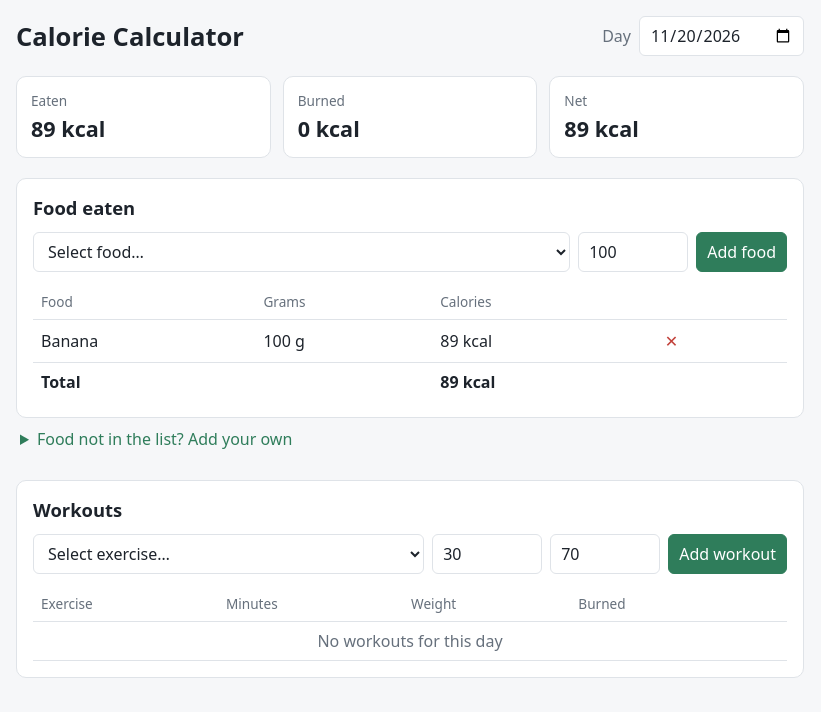
Scenario: App › adding a workout shows burned calories and net
Select "Running" in the dropdown named "Exercise" at (229, 554), box [33,534,424,574]
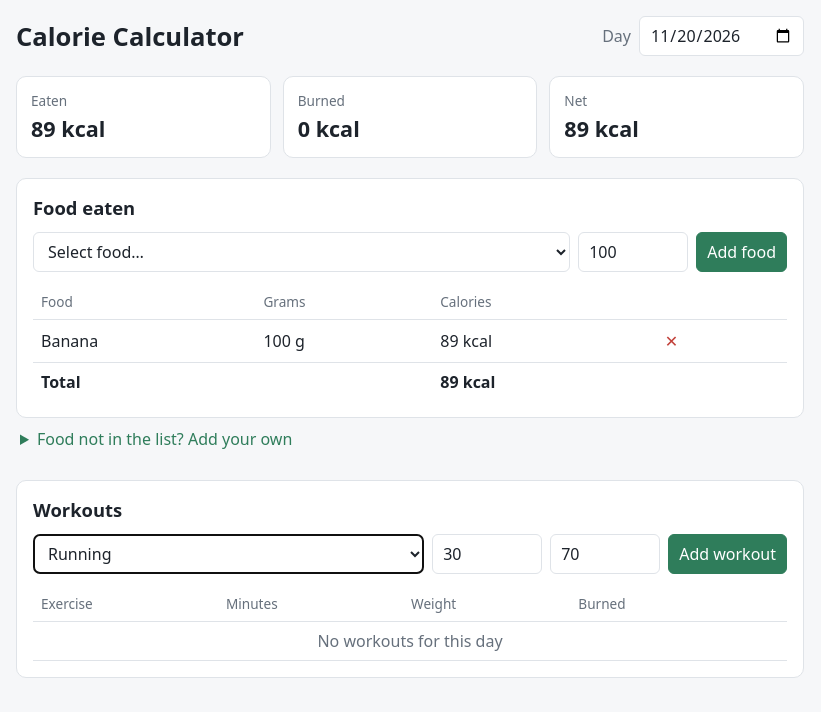
Click the button "Add workout" at (728, 554), box [668,534,787,574]
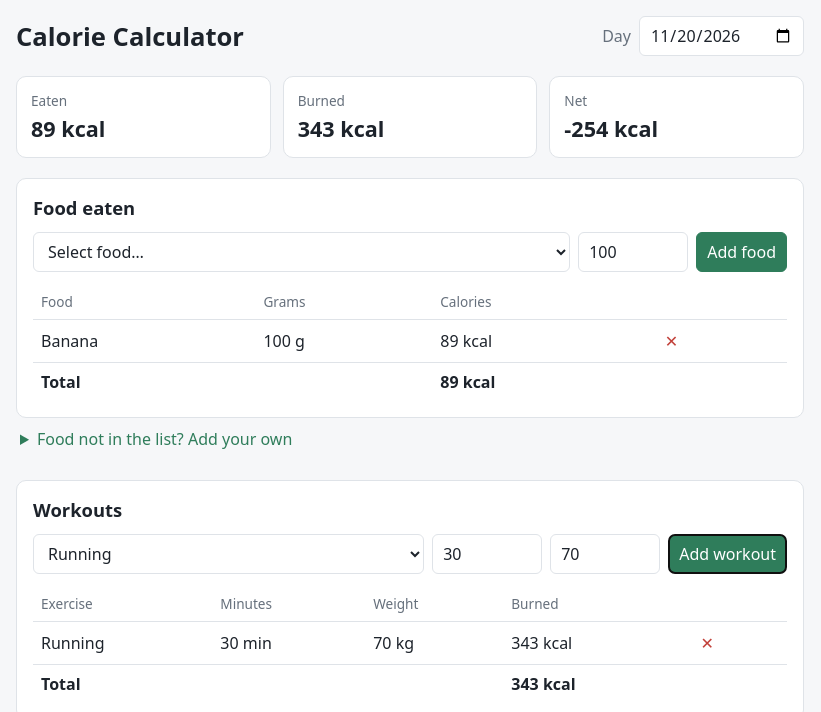
Expected: the cell "Running" is shown, [33,622,212,664]
Expected: the text with test id "burned" reads "343 kcal", [298,114,384,143]
Expected: the text with test id "net" reads "-254 kcal", [564,114,658,143]
